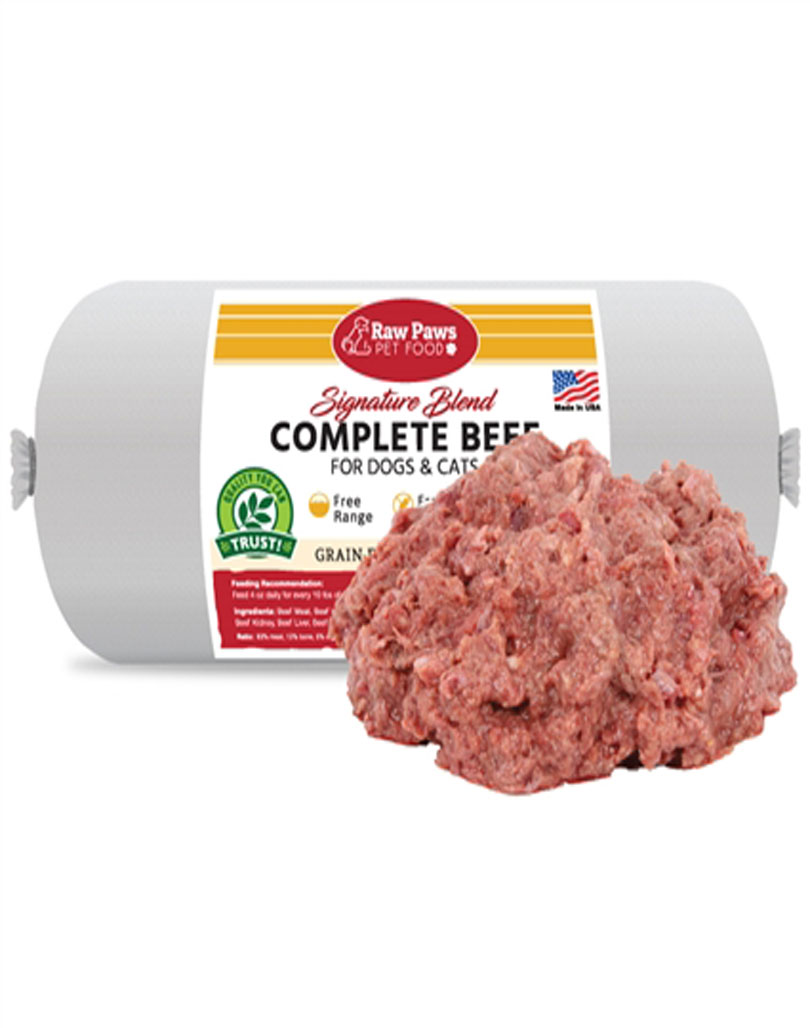ground_beef: (336, 474, 768, 785)
